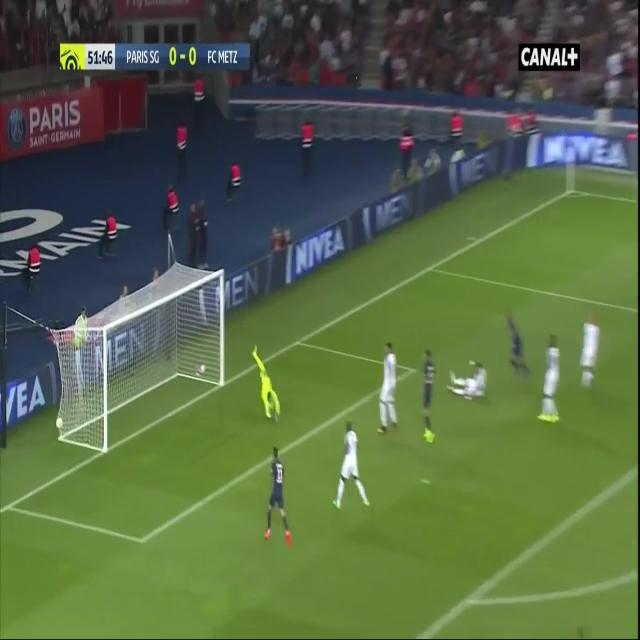Ball: (54, 416, 66, 432)
Goalkeeper: (250, 342, 284, 427)
Player: (331, 415, 374, 514), (262, 444, 293, 552), (536, 330, 564, 426), (576, 305, 604, 394), (377, 341, 400, 436), (503, 314, 535, 376), (446, 356, 489, 402), (420, 345, 439, 449)
